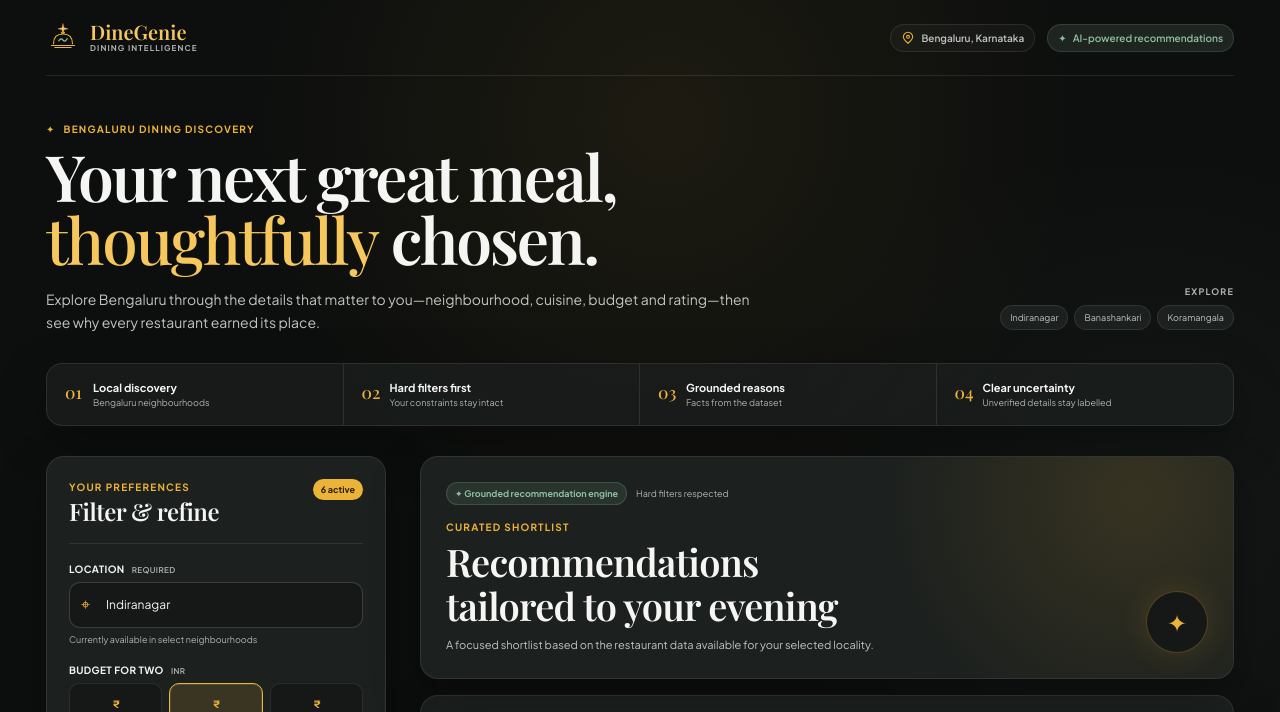
Scenario: restaurant search › shows backend budget validation for a selected band
The width and height of the screenshot is (1280, 712).
Click the dropdown labelled "Location Required" at (216, 605), box x1=69 y1=582 x2=363 y2=628
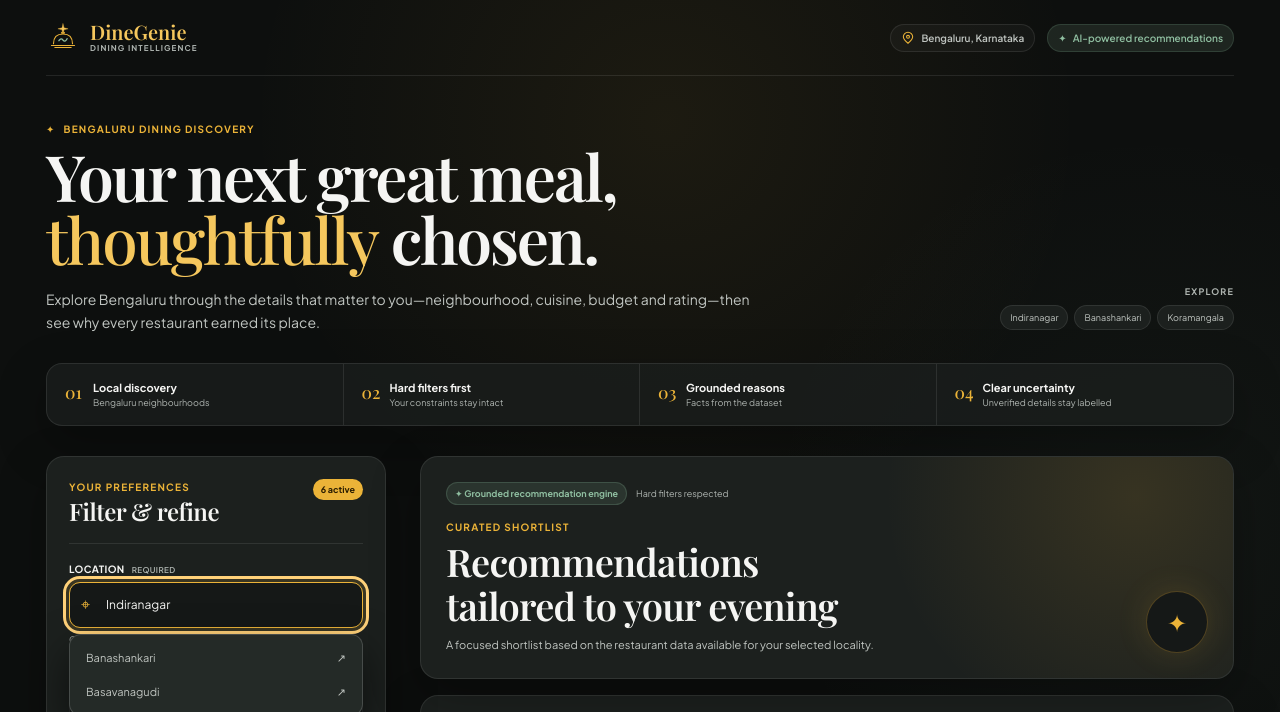
Click the option "Banashankari ↗" at (121, 657), box x1=86 y1=651 x2=346 y2=664
(page scrolled)
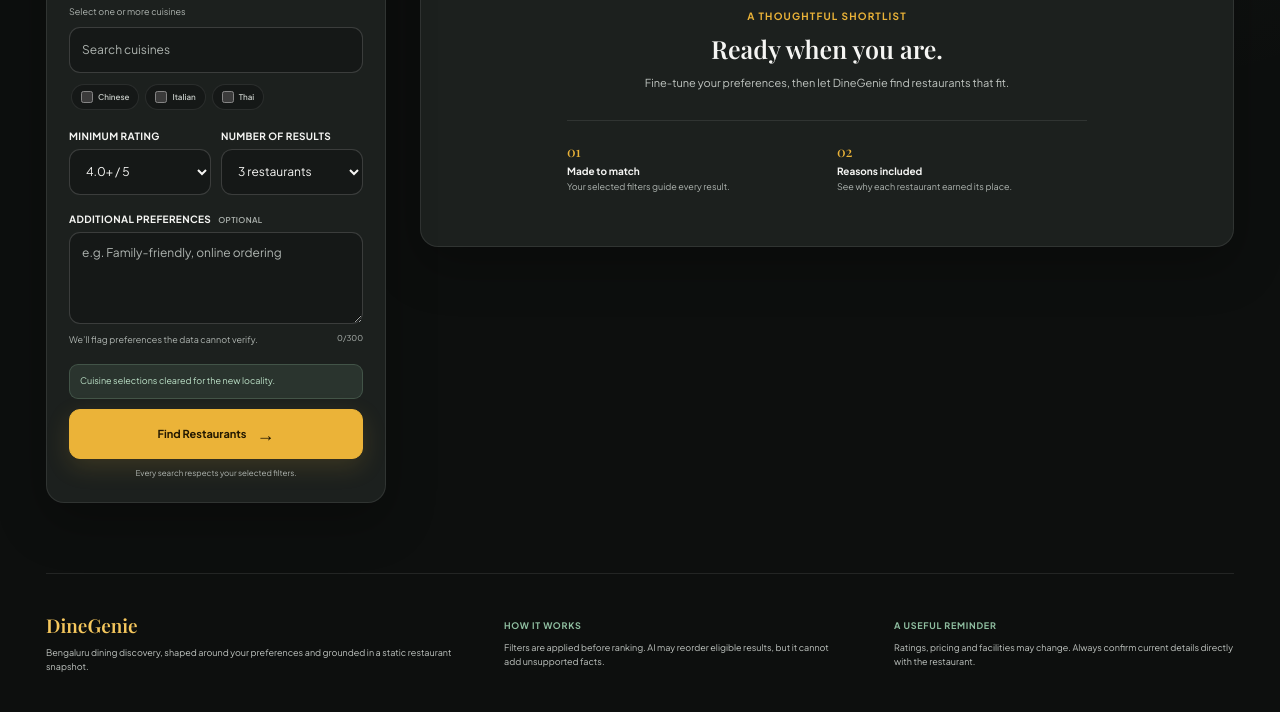
Expected: the checkbox labelled "Chinese" is shown, x1=81 y1=91 x2=93 y2=103
Click the button "Find Restaurants →" at (216, 434), box x1=69 y1=409 x2=363 y2=459
(page scrolled)
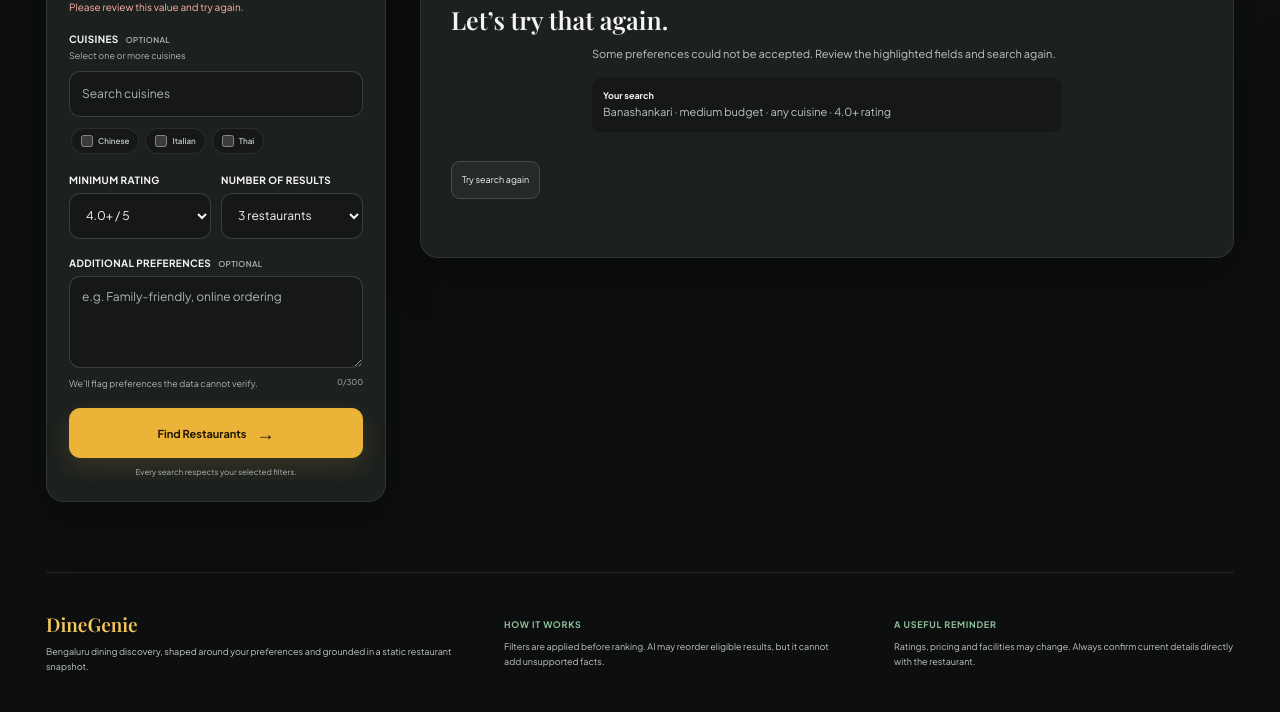
Now the text "Please review this value and try again." is shown, box x1=69 y1=1 x2=244 y2=13
